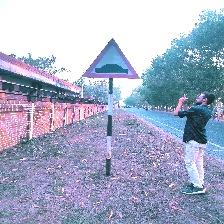Speed-breaker: (82, 40, 139, 78)
